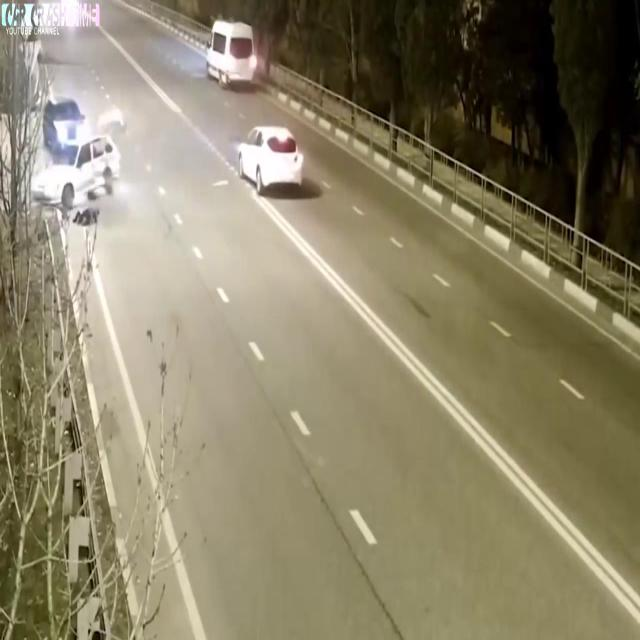accident: (24, 100, 131, 240)
